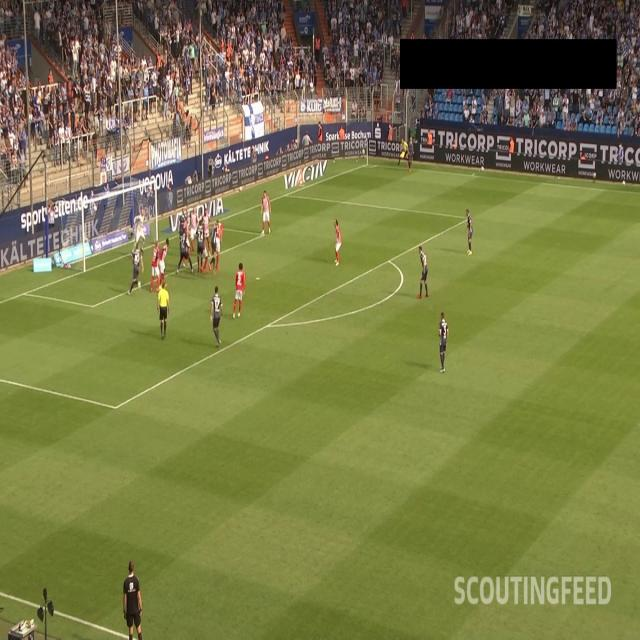player: (436, 313, 448, 371), (417, 243, 429, 297), (211, 287, 223, 341), (178, 233, 192, 275), (131, 243, 142, 290), (235, 260, 244, 316), (332, 220, 342, 268), (161, 237, 171, 284), (135, 206, 145, 253), (261, 190, 271, 233), (200, 208, 210, 250), (196, 225, 204, 269), (153, 239, 160, 289), (465, 211, 472, 257), (216, 220, 222, 270), (190, 207, 198, 244), (211, 223, 217, 268), (407, 140, 412, 174), (178, 208, 182, 243)
